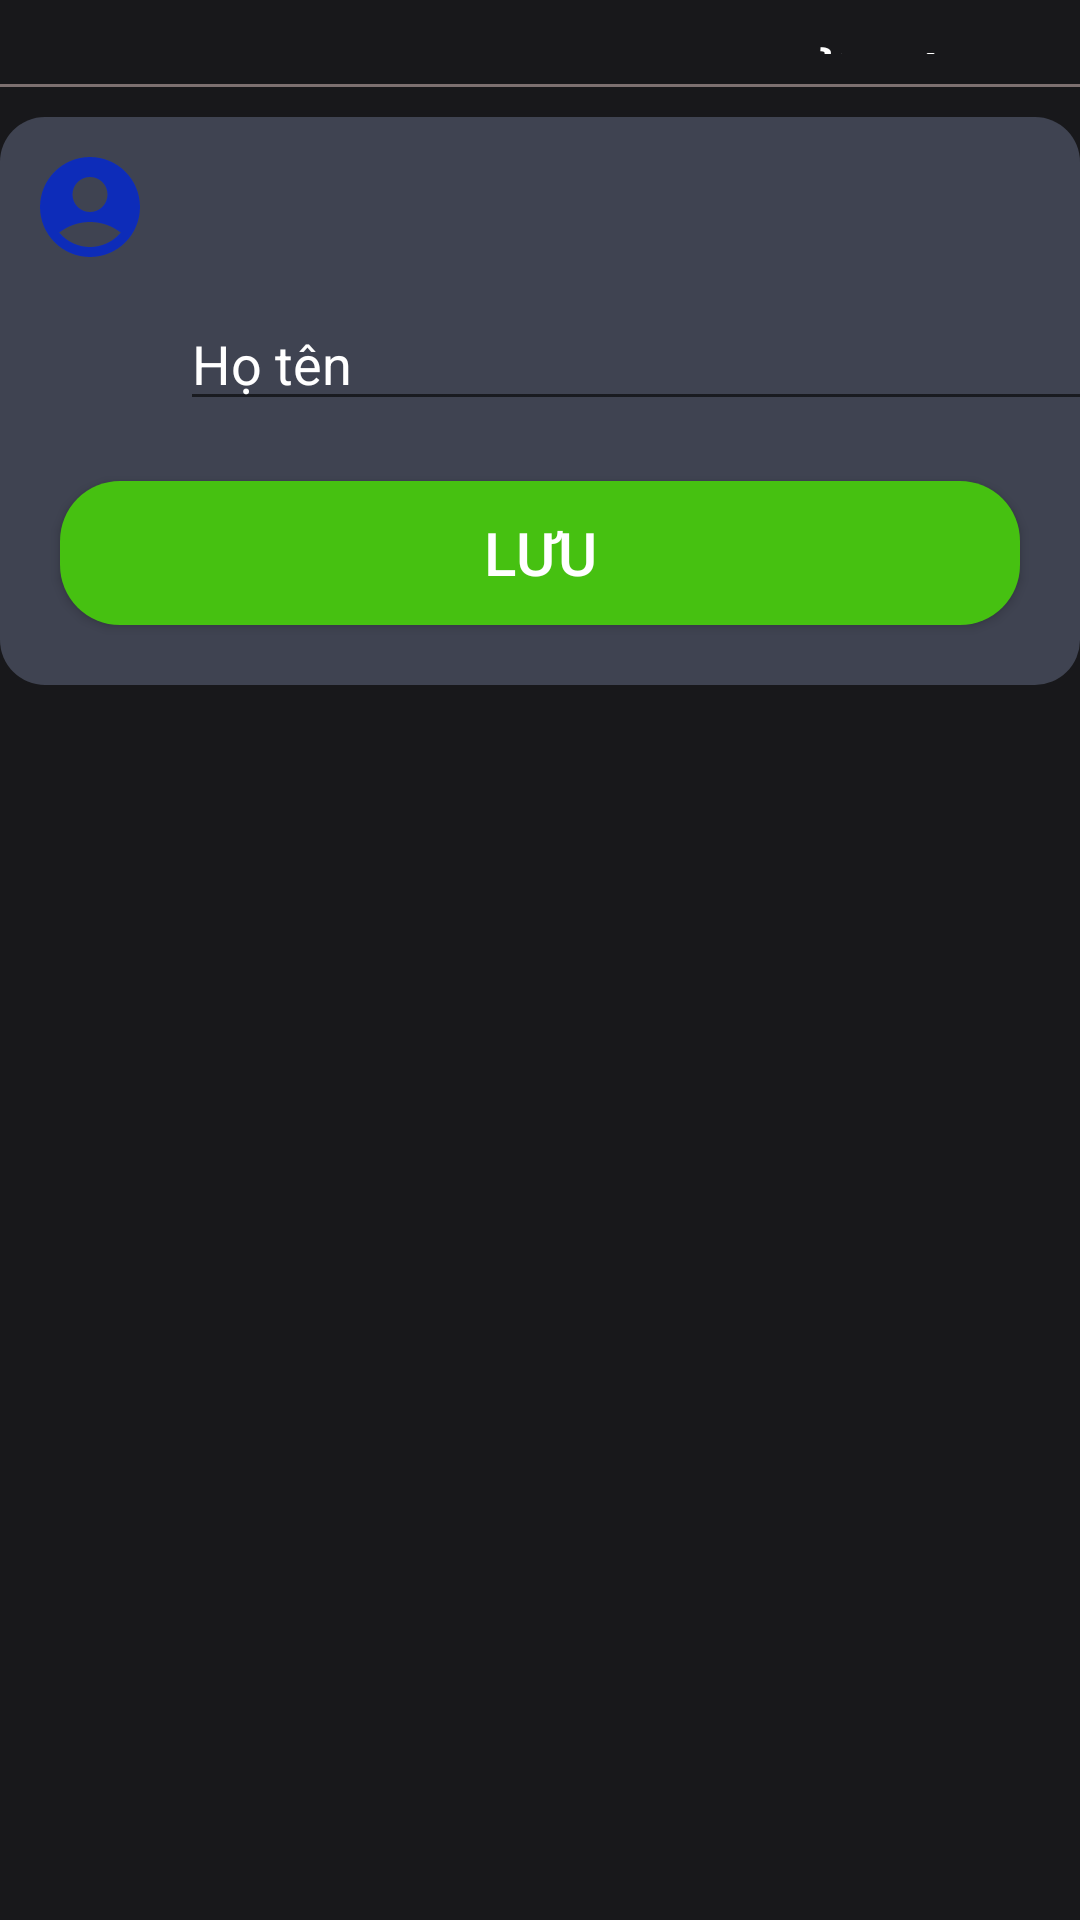

Where icons sit on this 1080 x 1920 app screen, as bbox=(x1, y1, x2, y2):
account circle: bbox=(40, 157, 140, 257)
